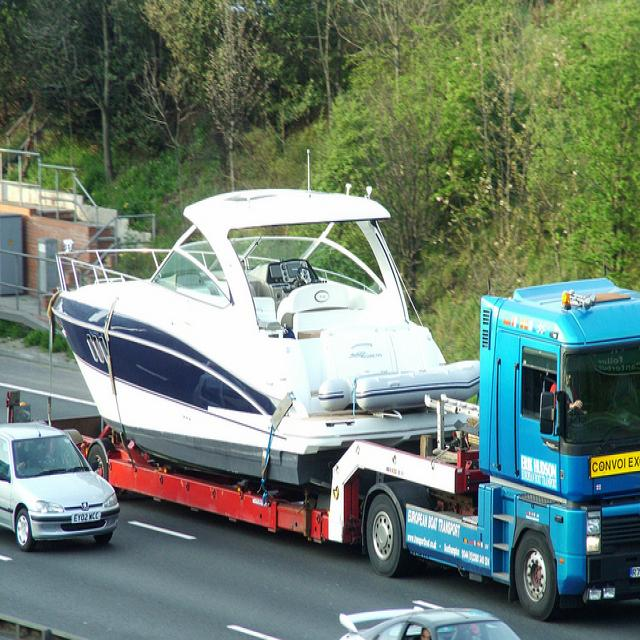Vehicle: (362, 272, 640, 615), (0, 421, 120, 553), (336, 605, 526, 640)
